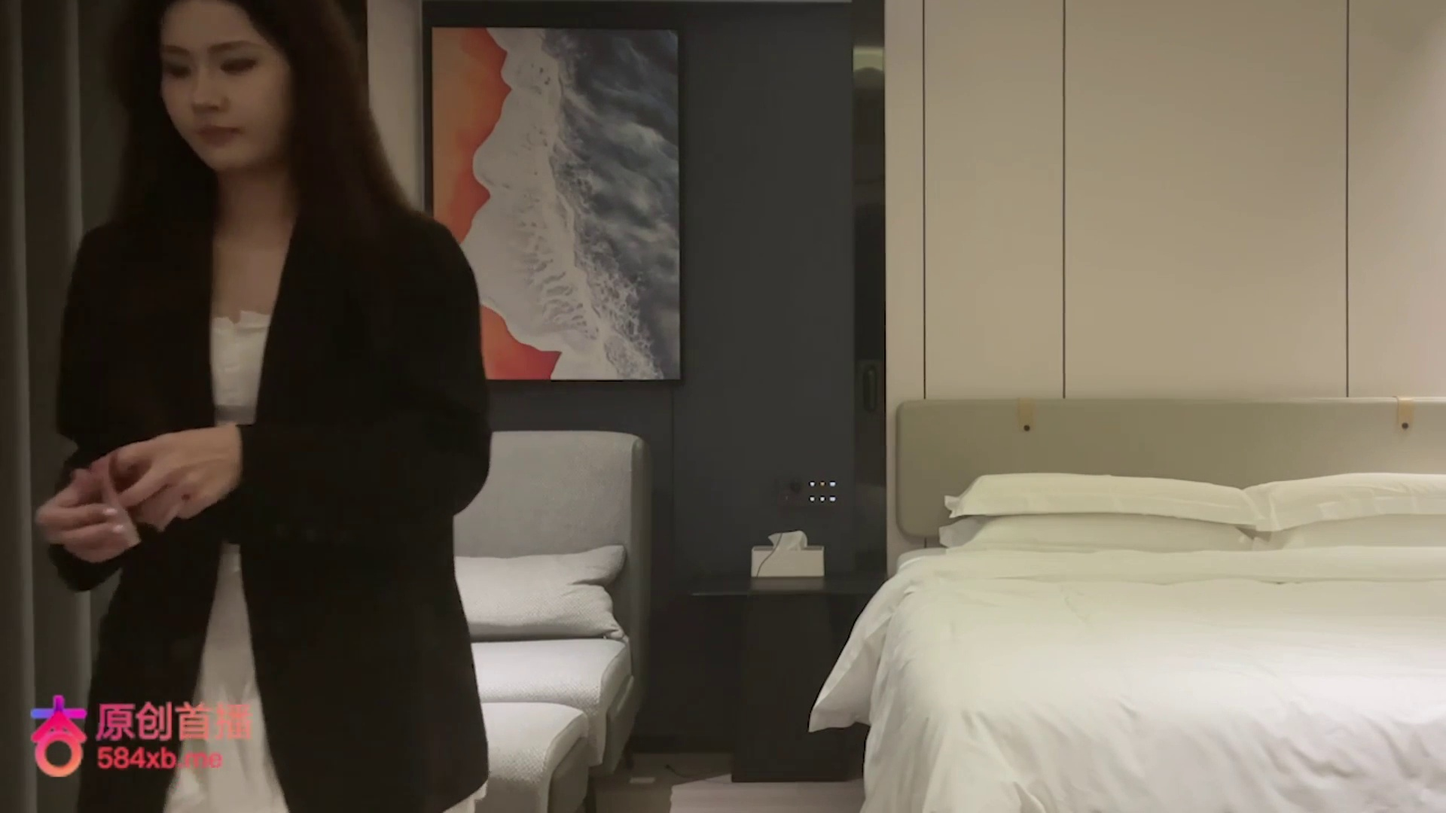stand: (35, 1, 494, 805)
